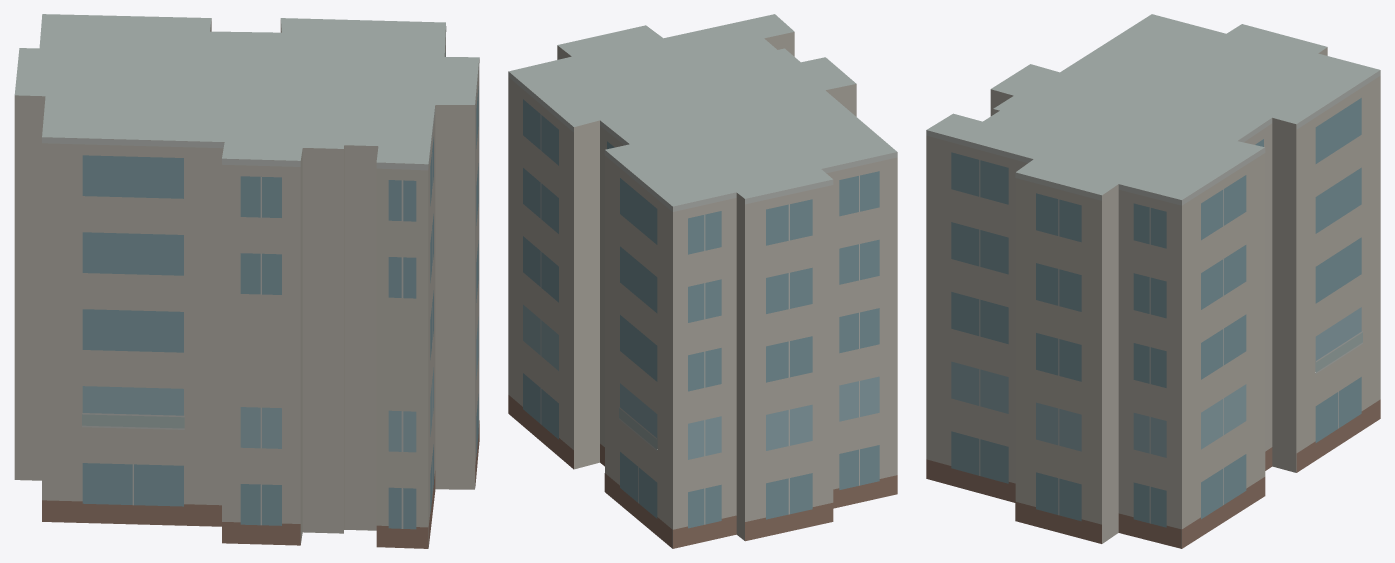
File: survey-upis-32646616.glb
3 renders of one model, left to right at view 1: azimuth 30°, elevation 25°; view 2: azimuth 150°, elevation 25°; view 3: azimuth 270°, elevation 25°, orthographic. The views are drawn at different scales.
Parts seen in each view (by area): view 1: survey-upis-32646616.tmp; view 2: survey-upis-32646616.tmp; view 3: survey-upis-32646616.tmp.
Boxes of the visible parts, <box> form: survey-upis-32646616.tmp: <box>14,14,479,548</box>; survey-upis-32646616.tmp: <box>508,14,897,548</box>; survey-upis-32646616.tmp: <box>926,14,1380,548</box>.
Size of the model in its own units: 17.46 by 15.25 by 18.01.
